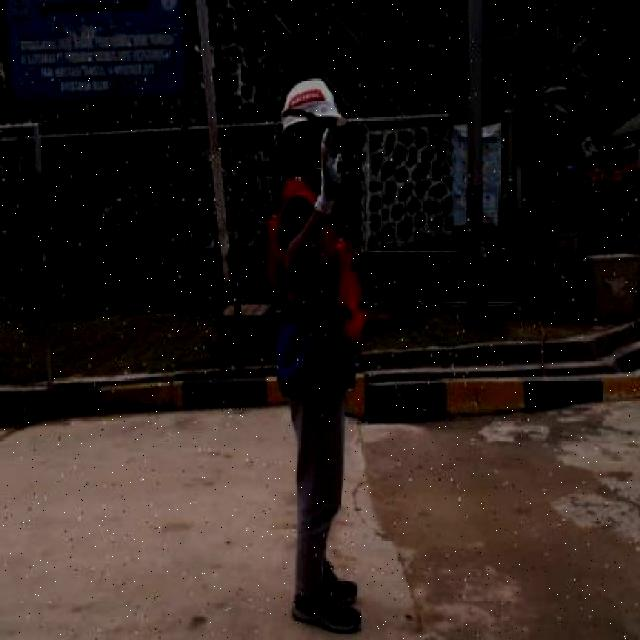Boots: (292, 578, 362, 636), (323, 564, 359, 606)
Gloves: (312, 124, 345, 222)
Helmet: (278, 78, 349, 137)
Mask: (260, 217, 372, 346)
